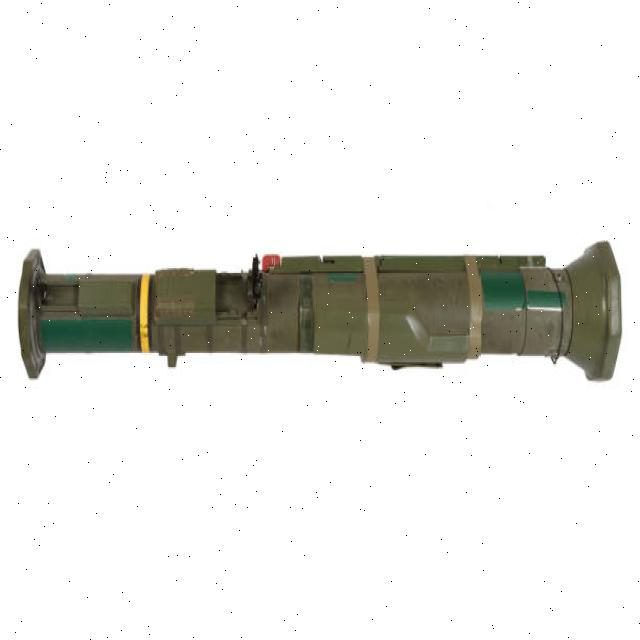bazooka: (9, 236, 632, 391)
